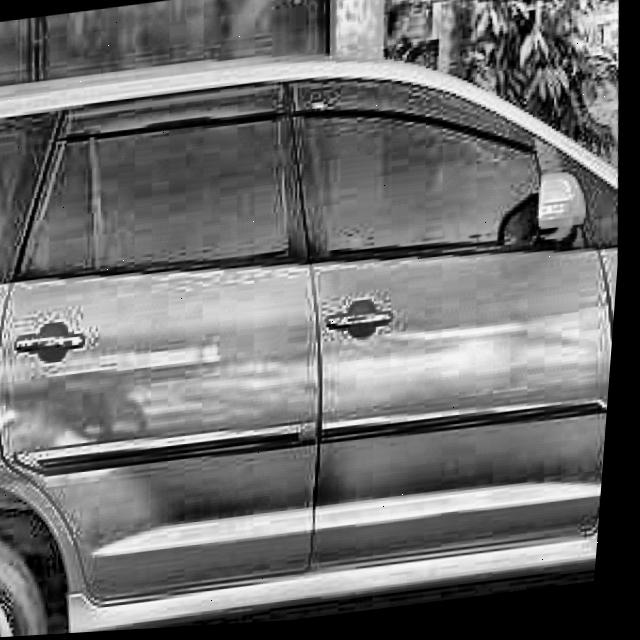light_vehicle: (0, 10, 638, 640)
